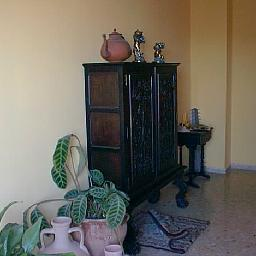Armario: (88, 63, 181, 188)
Matera: (49, 136, 126, 242)
